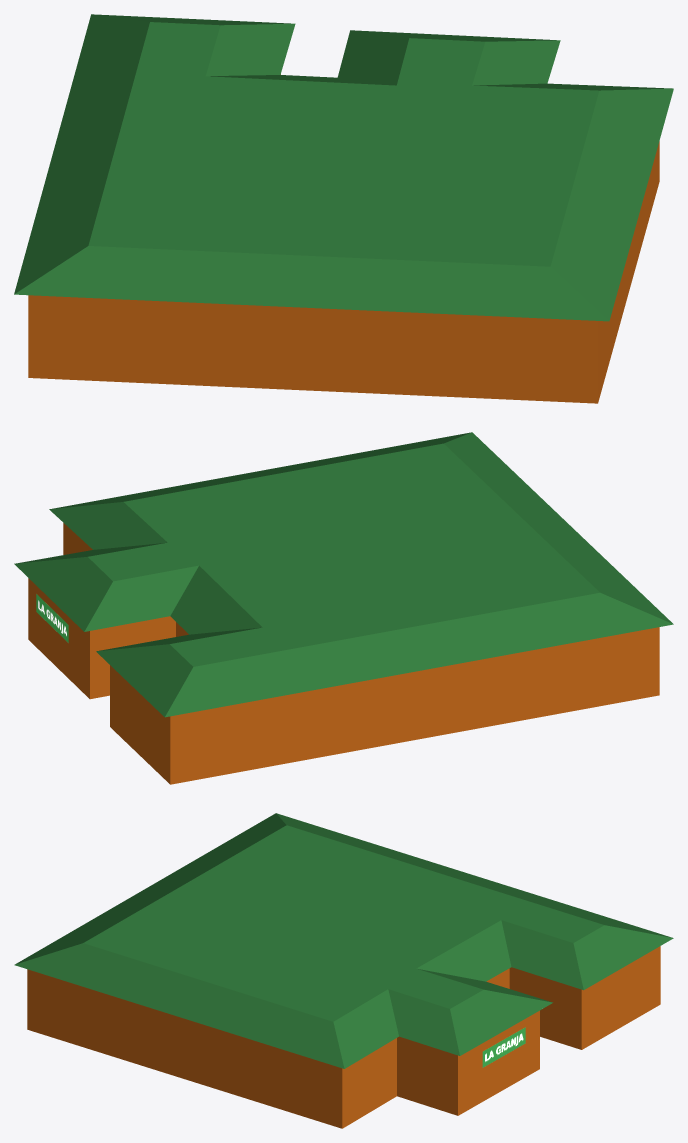
The model's file is lagranja_sav.glb.
3 views of the same model, one above another, from view 1: azimuth 30°, elevation 25°; view 2: azimuth 150°, elevation 25°; view 3: azimuth 270°, elevation 25° (orthographic). The views are drawn at different scales.
Parts seen in each view (by area): view 1: lagranja_sav_lod0; view 2: lagranja_sav_lod0; view 3: lagranja_sav_lod0.
Part boxes in pixels (x1,y1,x2,y2): lagranja_sav_lod0: (14, 14, 673, 403); lagranja_sav_lod0: (14, 432, 673, 784); lagranja_sav_lod0: (14, 813, 673, 1128).
Size of what is drawn, in the model's own units: 37.69 by 5.7 by 41.07.
4 materials, 2 textured.
